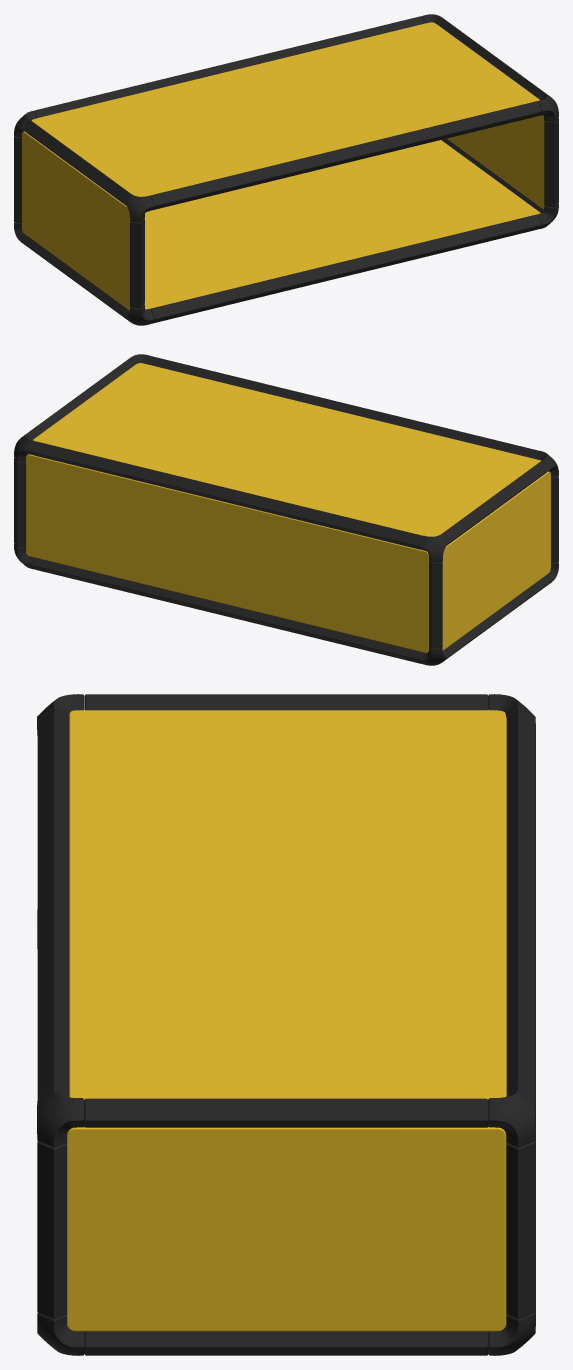
3 views of the same model, one above another, from view 1: azimuth 30°, elevation 25°; view 2: azimuth 150°, elevation 25°; view 3: azimuth 270°, elevation 25° (orthographic). The views are drawn at different scales.
Parts seen in each view (by area): view 1: 729x329x154; view 2: 729x329x154; view 3: 729x329x154.
Part boxes in pixels (x1,y1,x2,y2): 729x329x154: (14, 14, 558, 325); 729x329x154: (14, 354, 558, 665); 729x329x154: (37, 694, 535, 1355).
Size of the model in its own units: 0.8067 by 0.2316 by 0.4063.
